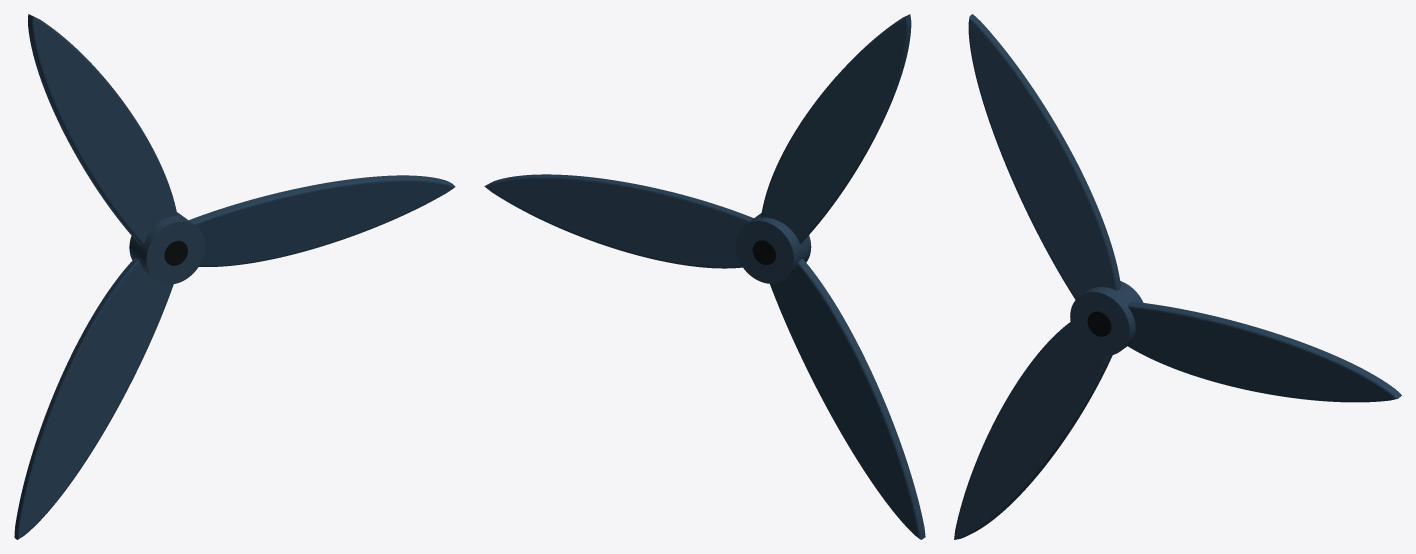
The model's file is hqprop-5x4.3x3.glb.
3 views of the same model, side by side, from view 1: azimuth 30°, elevation 25°; view 2: azimuth 150°, elevation 25°; view 3: azimuth 330°, elevation 25° (orthographic).
Visible parts, largest first — view 1: pitch_blade_3, pitch_blade_2, pitch_blade_1, HQProp_HQ5X4_3X3V2S_spec_model; view 2: pitch_blade_1, pitch_blade_2, pitch_blade_3, HQProp_HQ5X4_3X3V2S_spec_model; view 3: pitch_blade_2, pitch_blade_1, pitch_blade_3, HQProp_HQ5X4_3X3V2S_spec_model.
Part boxes in pixels (bbox=[...]): pitch_blade_3: bbox=[14, 257, 173, 539]; pitch_blade_2: bbox=[28, 14, 177, 245]; pitch_blade_1: bbox=[189, 175, 455, 266]; HQProp_HQ5X4_3X3V2S_spec_model: bbox=[129, 212, 205, 284]; pitch_blade_1: bbox=[484, 174, 753, 268]; pitch_blade_2: bbox=[761, 14, 911, 243]; pitch_blade_3: bbox=[770, 258, 925, 539]; HQProp_HQ5X4_3X3V2S_spec_model: bbox=[735, 213, 811, 283]; pitch_blade_2: bbox=[968, 14, 1121, 299]; pitch_blade_1: bbox=[1128, 301, 1401, 402]; pitch_blade_3: bbox=[954, 322, 1112, 539]; HQProp_HQ5X4_3X3V2S_spec_model: bbox=[1070, 281, 1143, 355].
Size of the model in its own units: 0.0956 by 0.1086 by 0.007.
